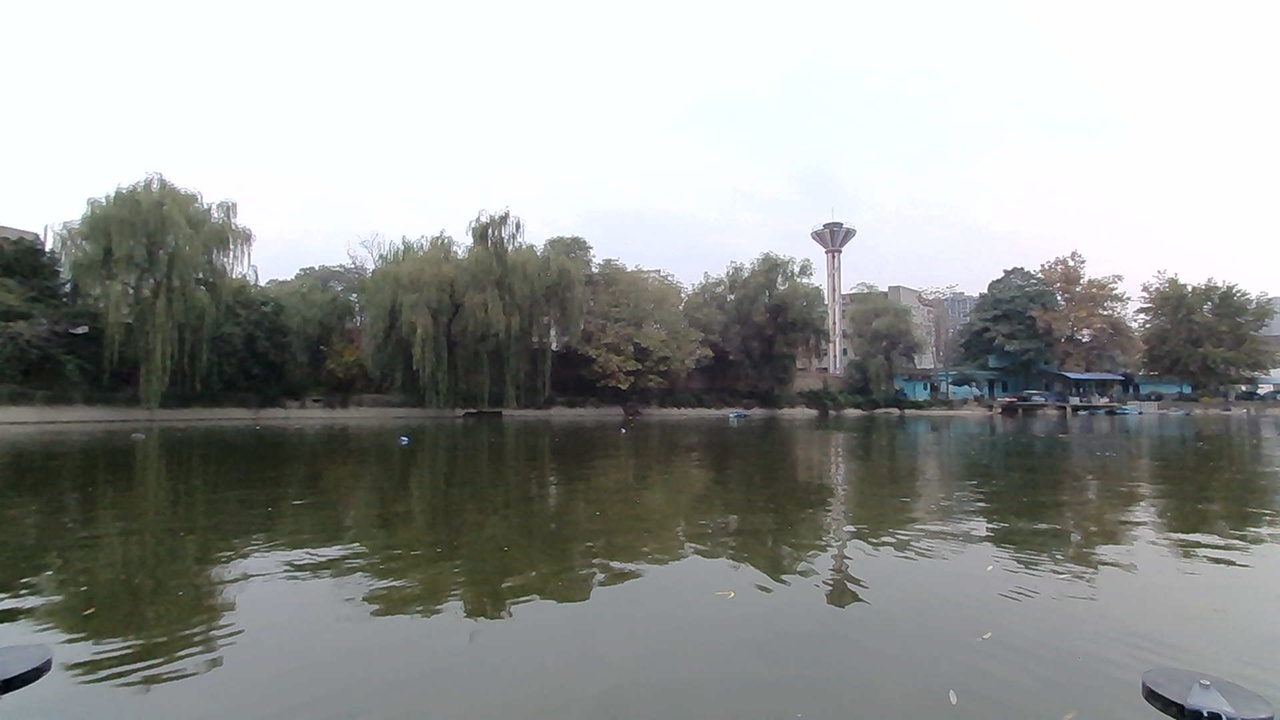bottle: (391, 431, 422, 449)
